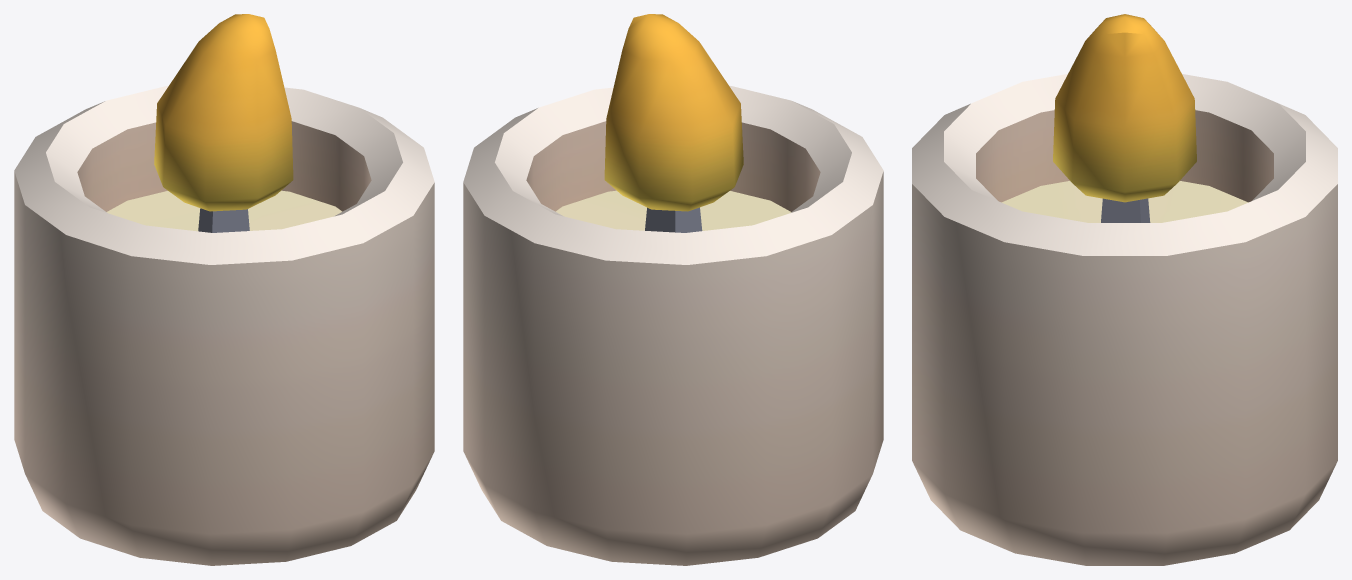
Rendered from bath-candle.glb.
3 views of the same model, side by side, from view 1: azimuth 30°, elevation 25°; view 2: azimuth 150°, elevation 25°; view 3: azimuth 270°, elevation 25° (orthographic). The views are drawn at different scales.
Visible parts, largest first — view 1: candle; view 2: candle; view 3: candle.
Boxes of the visible parts, box(x1,y1,x2,y2) form: candle: box(14, 14, 434, 565); candle: box(463, 14, 883, 565); candle: box(912, 14, 1337, 565).
Bounding box in the file's own units: 0.288 × 0.3702 × 0.288.
1 material, 1 textured.
